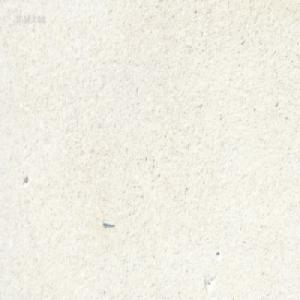Nail: (100, 217, 115, 227)
